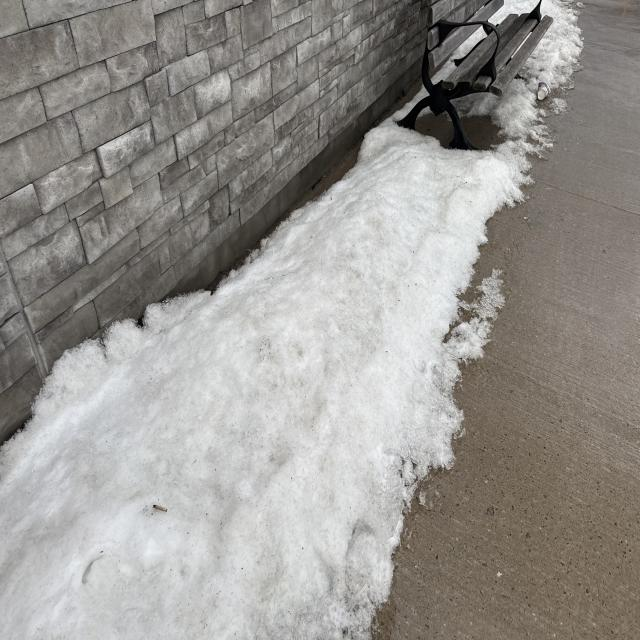Bench: (403, 0, 552, 136)
